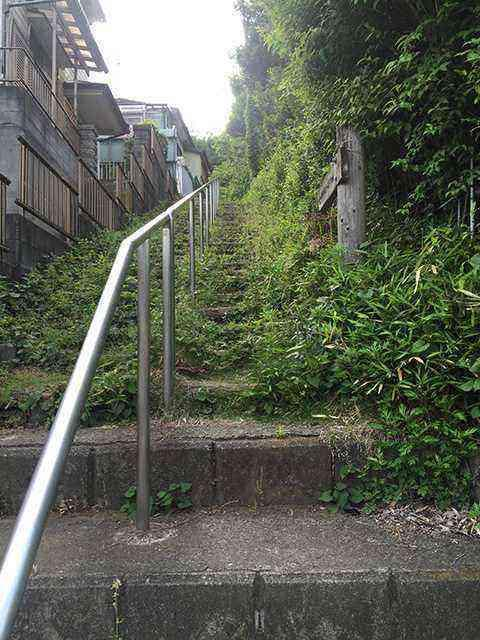overgrown grass: (258, 225, 479, 534), (0, 231, 119, 426), (251, 147, 305, 301), (83, 279, 135, 421), (175, 214, 194, 365), (223, 205, 253, 298), (188, 385, 265, 416), (150, 245, 164, 385), (194, 354, 247, 377), (199, 327, 255, 346), (199, 292, 249, 306), (195, 198, 200, 282)
